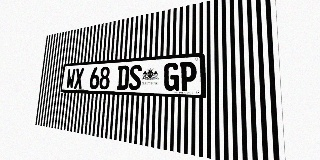6: (89, 67, 100, 89)
8: (99, 66, 110, 89)
D: (117, 65, 129, 90)
G: (163, 62, 179, 91)
P: (179, 61, 197, 91)
S: (128, 65, 142, 90)
W: (66, 68, 76, 89)
X: (74, 68, 84, 89)
